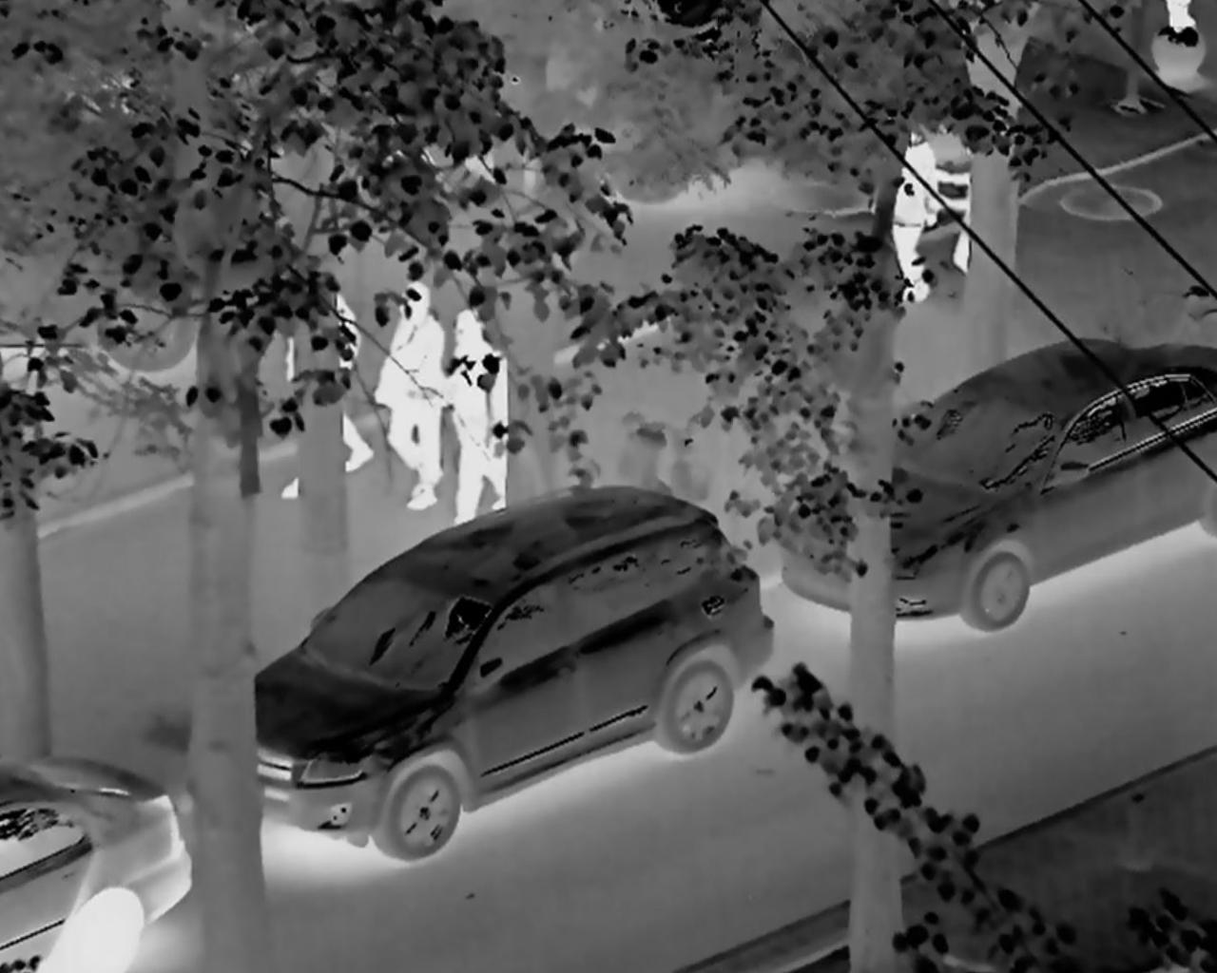person: (289, 260, 365, 508), (374, 282, 450, 511), (446, 303, 513, 526), (884, 127, 937, 308)
